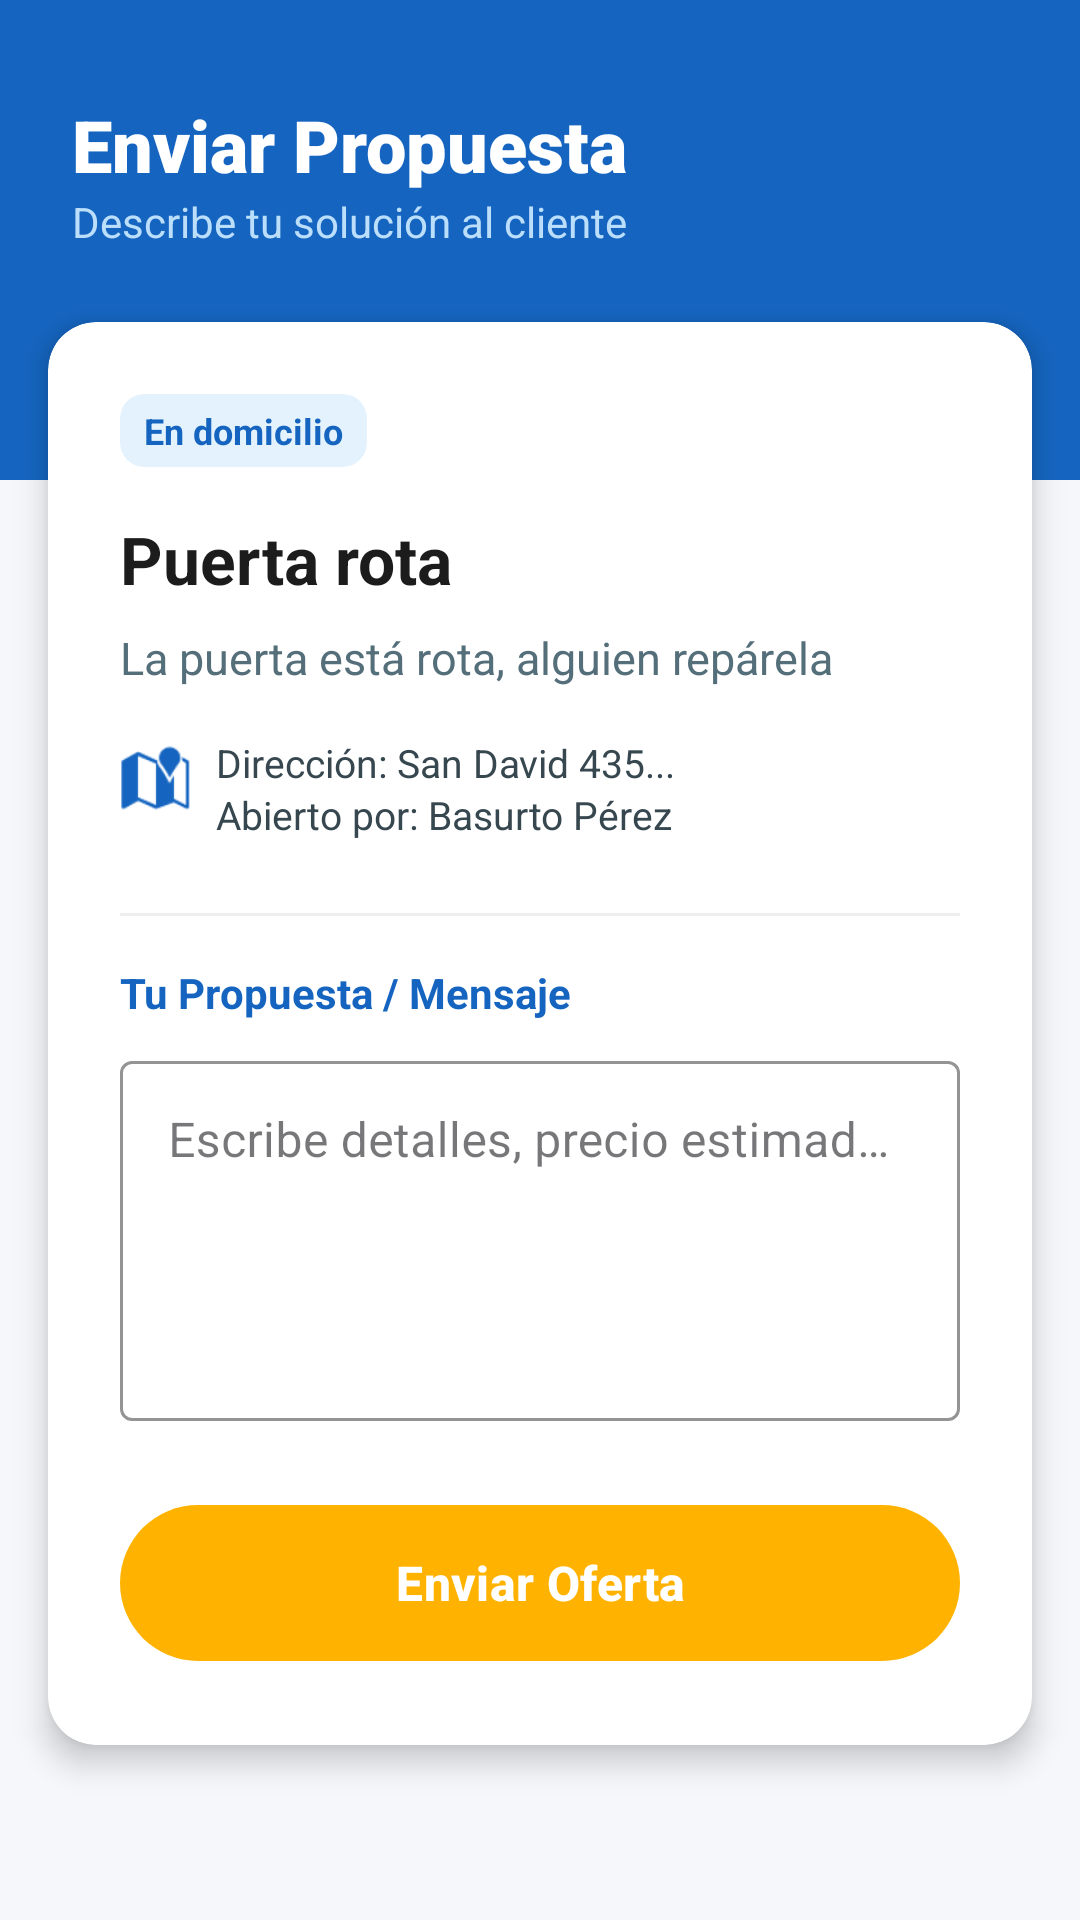

Icon click points for this 1080px x 1920px phone screenshot, format (x=x, y=y):
map: (x=155, y=778)
